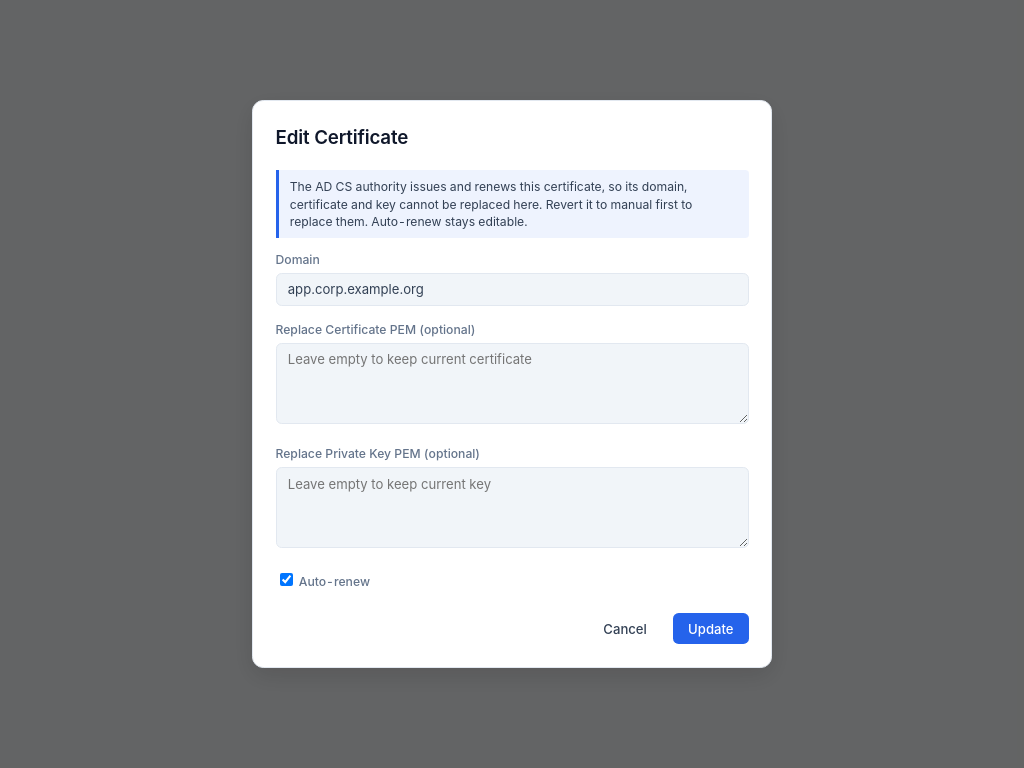
Test: CertificateEditForm on an AD CS certificate › shows a 409 from the API as returned
Click the checkbox labelled "Auto-renew" at point(286, 579), box [280,573,292,586]
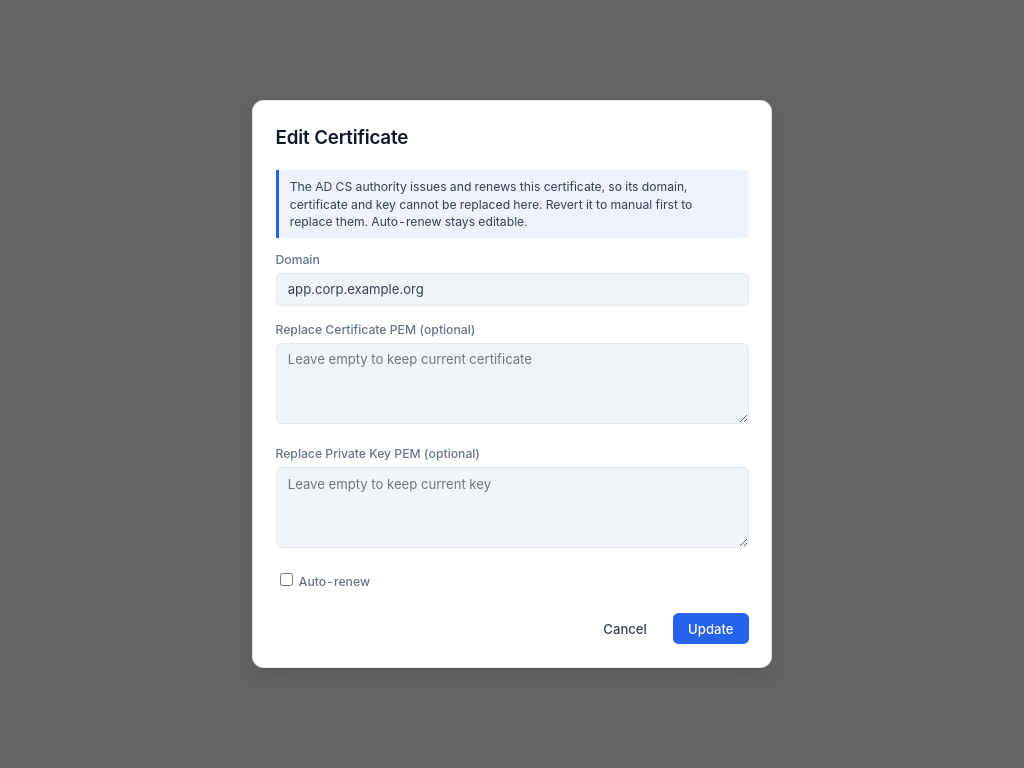
Click the button "Update" at point(711, 629), box [673,614,748,644]
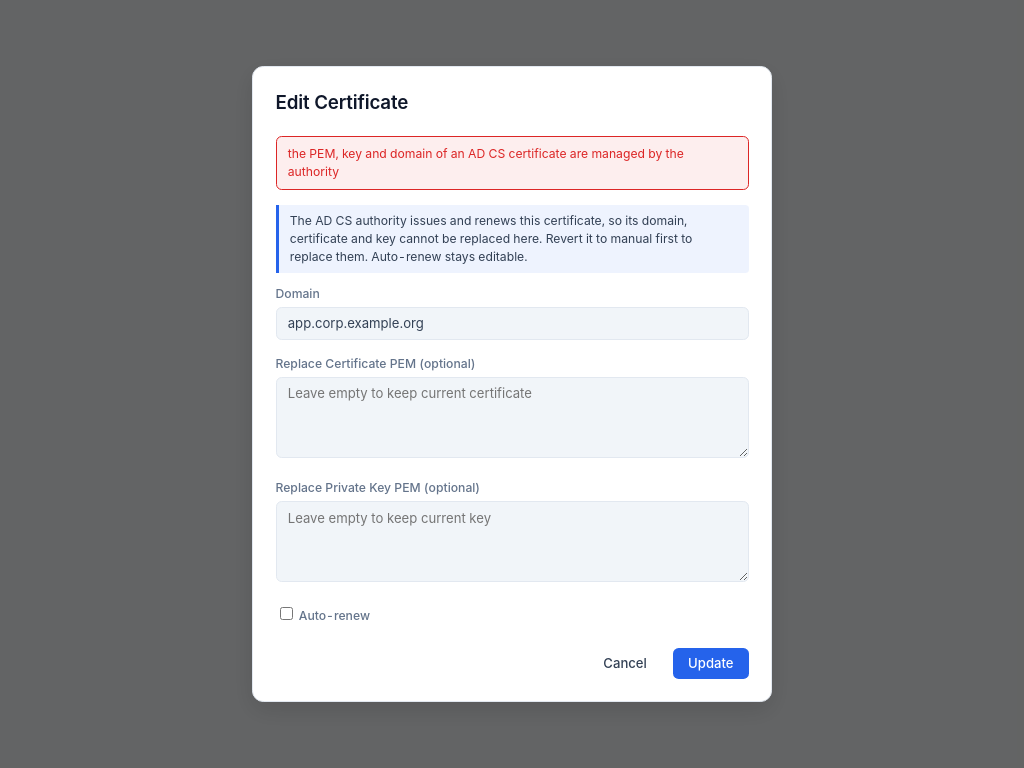
Expected: the message reads "the PEM, key and domain of an AD CS certificate are managed by the authority", [288,146,684,179]
